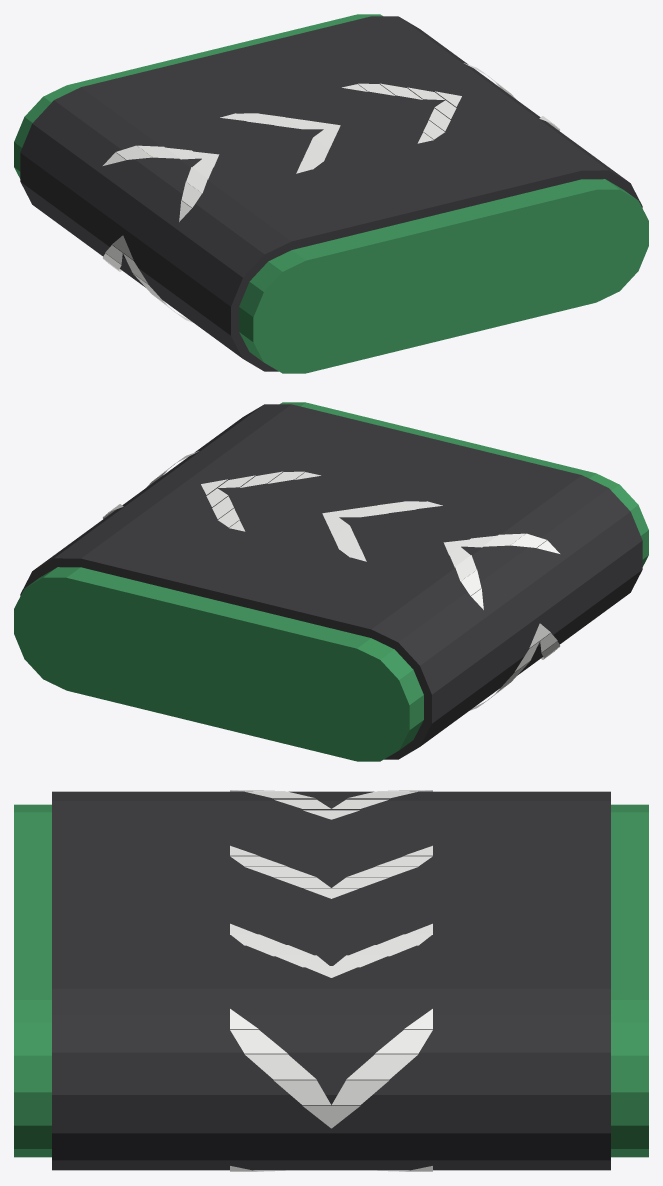
The model's file is Conveyor.fbx.
The picture shows the model from 3 angles, top to bottom: view 1: azimuth 30°, elevation 25°; view 2: azimuth 150°, elevation 25°; view 3: azimuth 270°, elevation 25°; orthographic projection. The views are drawn at different scales.
Parts seen in each view (by area): view 1: ConveyorTile, Arrow_0_2, Arrow_0_1, Arrow_1_2, Arrow_2_2; view 2: ConveyorTile, Arrow_0_2, Arrow_0_1, Arrow_1_2, Arrow_2_2; view 3: ConveyorTile, Arrow_3_2, Arrow_3_3, Arrow_3_1, Arrow_1_2, Arrow_2_2, Arrow_2_3, Arrow_1_3, Arrow_1_1, Arrow_2_1, Arrow_0_3, Arrow_0_2 (+2 smaller).
Part boxes in pixels (x1,y1,x2,y2): ConveyorTile: [14, 14, 648, 373]; Arrow_0_2: [137, 145, 207, 193]; Arrow_0_1: [116, 145, 201, 207]; Arrow_1_2: [259, 113, 329, 161]; Arrow_2_2: [380, 83, 450, 130]; ConveyorTile: [14, 402, 648, 761]; Arrow_0_2: [455, 533, 525, 581]; Arrow_0_1: [461, 533, 546, 595]; Arrow_1_2: [333, 501, 403, 549]; Arrow_2_2: [212, 471, 282, 518]; ConveyorTile: [14, 791, 648, 1170]; Arrow_3_2: [245, 1054, 417, 1079]; Arrow_3_3: [274, 1080, 388, 1105]; Arrow_3_1: [230, 1029, 432, 1053]; Arrow_1_2: [245, 867, 417, 877]; Arrow_2_2: [245, 945, 417, 956]; Arrow_2_3: [273, 955, 389, 967]; Arrow_1_3: [274, 877, 388, 887]; Arrow_1_1: [230, 856, 432, 866]; Arrow_2_1: [230, 934, 432, 945]; Arrow_0_3: [274, 799, 388, 808]; Arrow_0_2: [245, 791, 417, 798].
Bounding box in the file's own units: 101 × 30.85 × 100.
